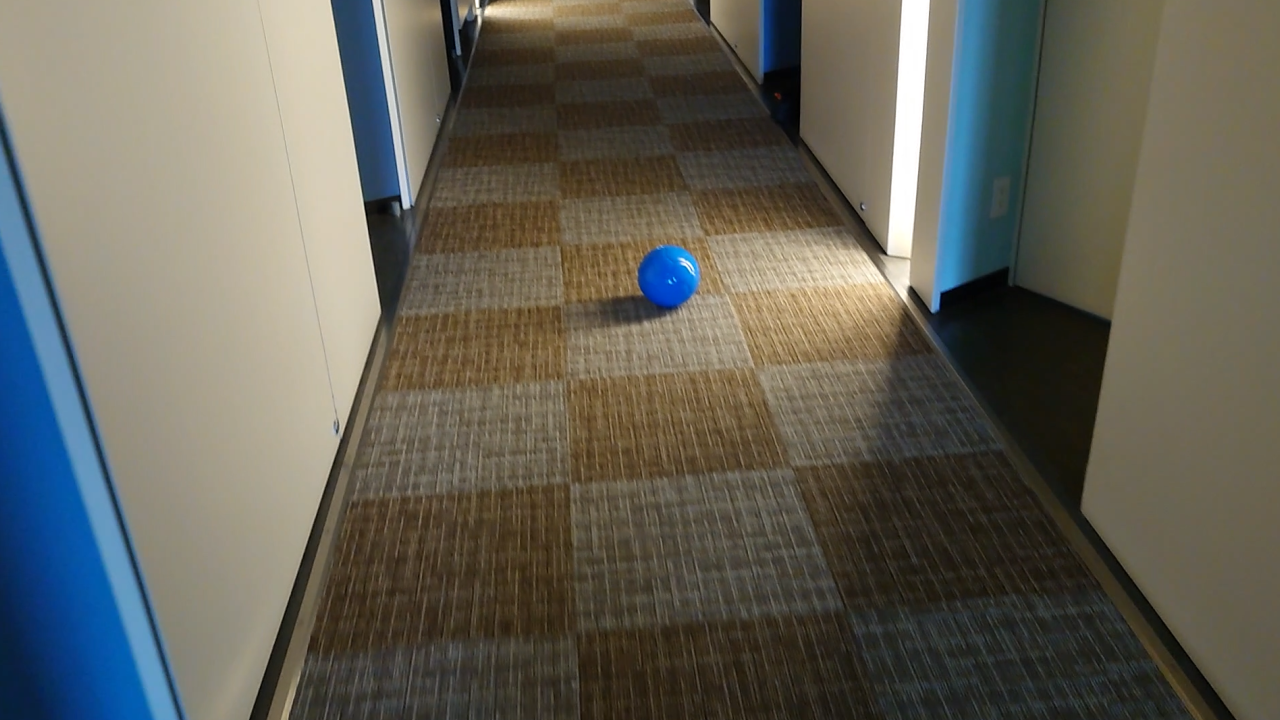BlueBall: (633, 241, 702, 308)
